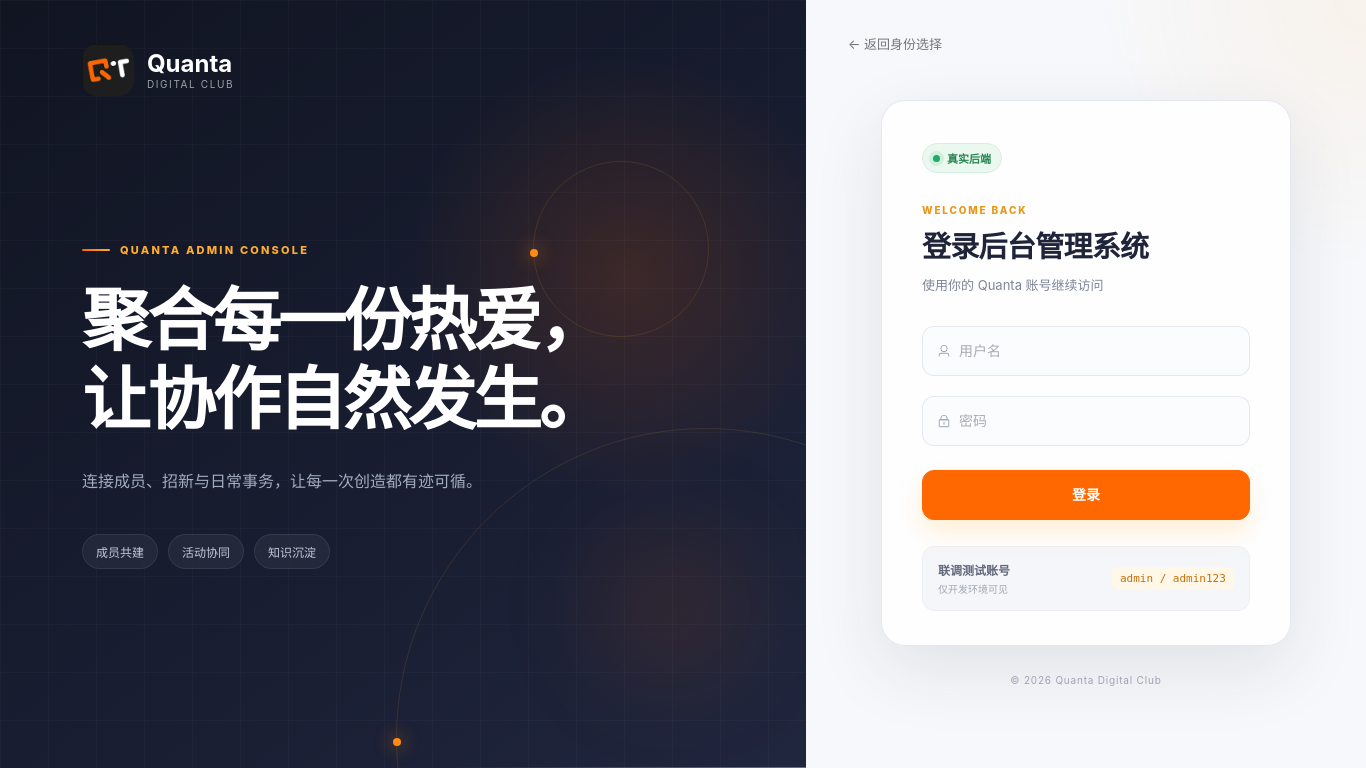
login view › rejects a member without management access and stays on admin login
The width and height of the screenshot is (1366, 768).
Type "member" into the field with placeholder "用户名" at (1097, 351), box [959,332,1235,370]
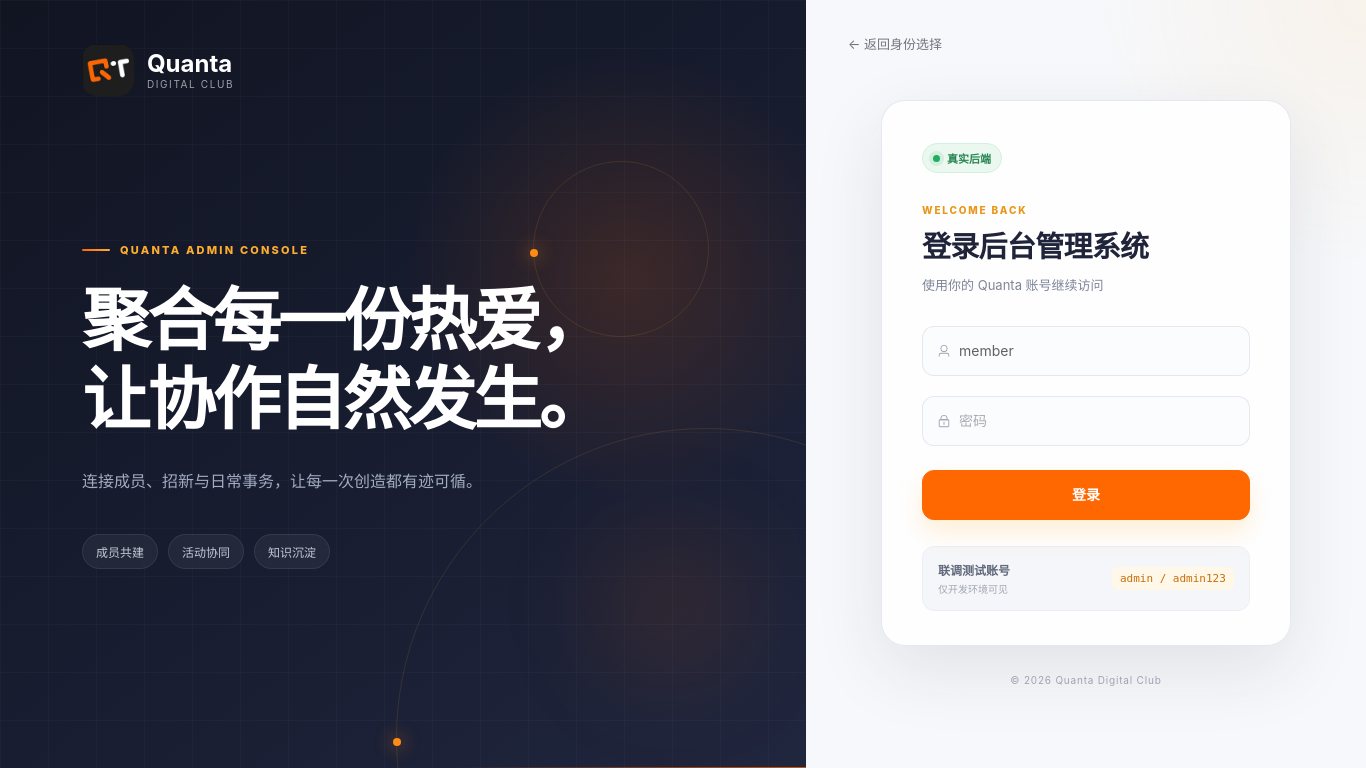
Type "member123" into the password field with placeholder "密码" at (1097, 421), box [959,402,1235,440]
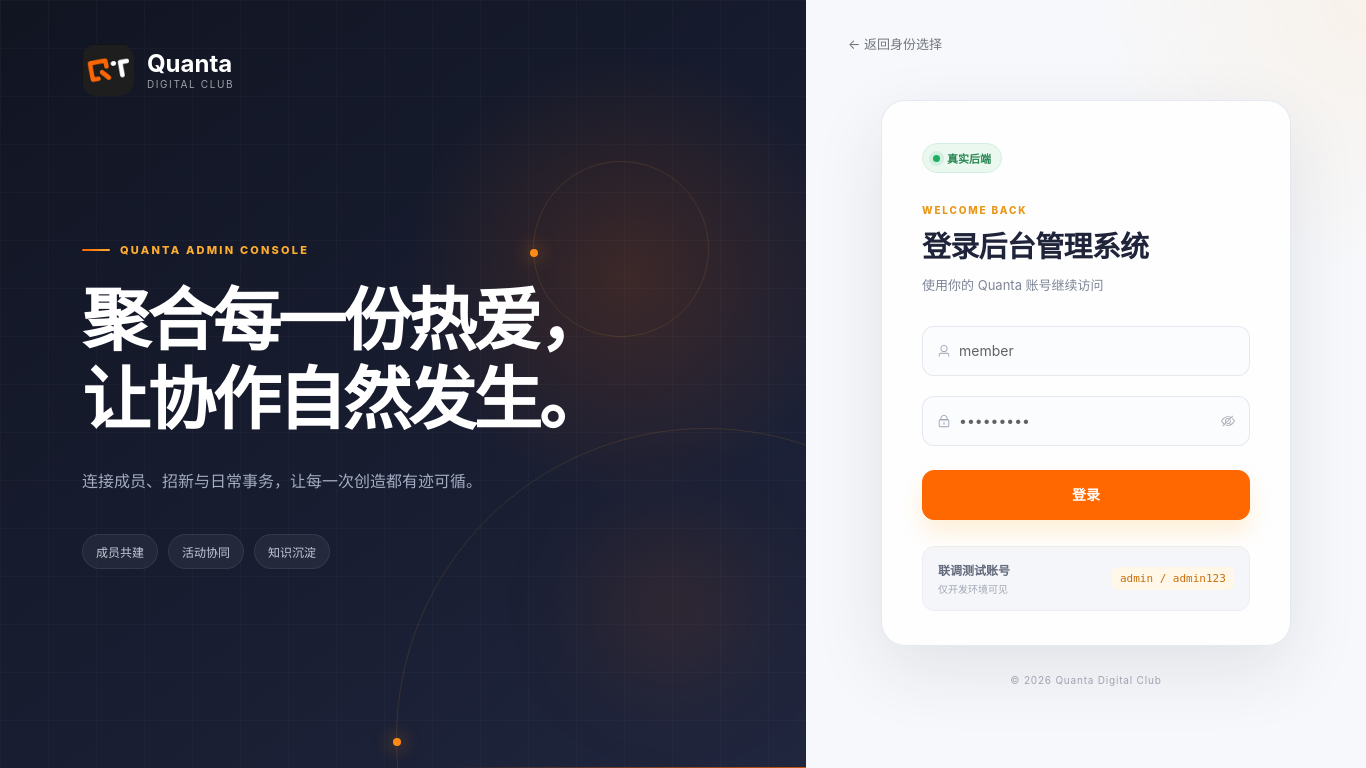
Submit the form, box [922,326,1250,520]
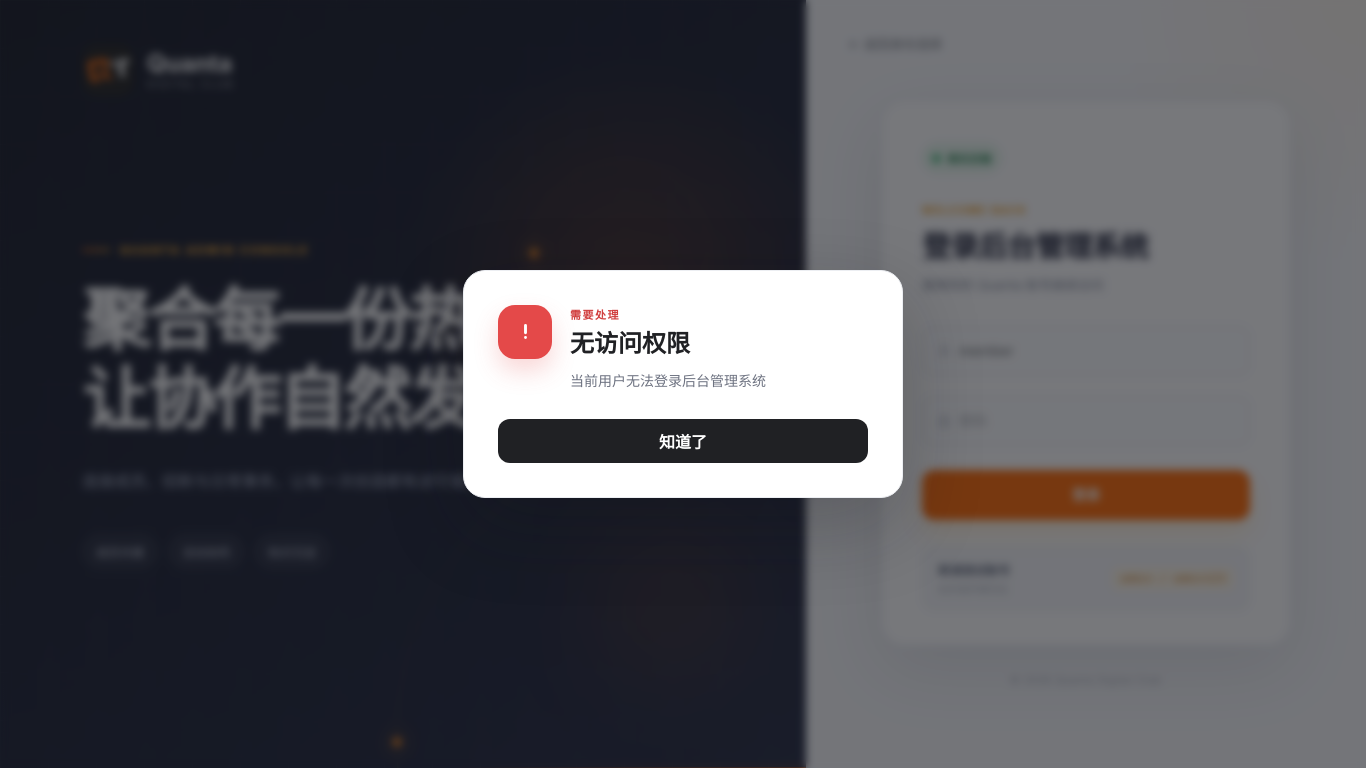
Now the dialog shows "当前用户无法登录后台管理系统", box [570,372,766,389]
